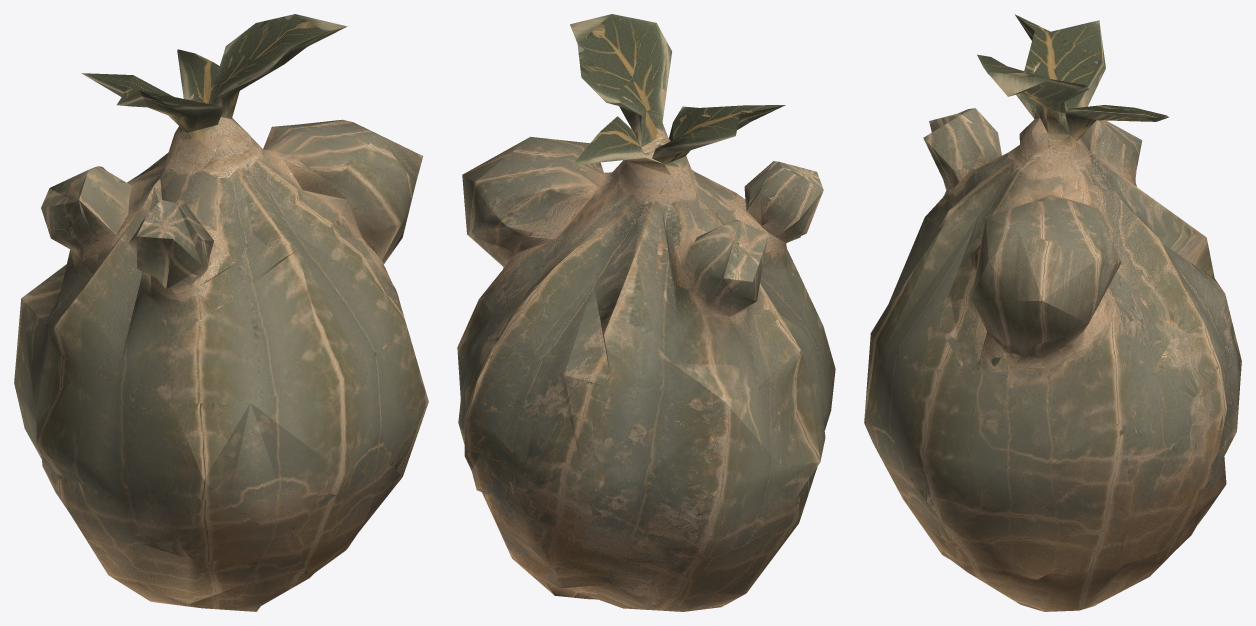
File: de_ribbed_storageplant_lod1.glb
3 renders of one model, left to right at view 1: azimuth 30°, elevation 25°; view 2: azimuth 150°, elevation 25°; view 3: azimuth 270°, elevation 25°, orthographic. The views are drawn at different scales.
Visible parts, largest first — view 1: mesh; view 2: mesh; view 3: mesh.
Boxes of the visible parts, x1,y1,x2,y2 form: mesh: [14, 14, 428, 611]; mesh: [457, 14, 835, 611]; mesh: [864, 14, 1241, 611].
Size of the model in its own units: 1.35 by 1.9 by 1.21.
Materials: 1 (1 with a texture image).
